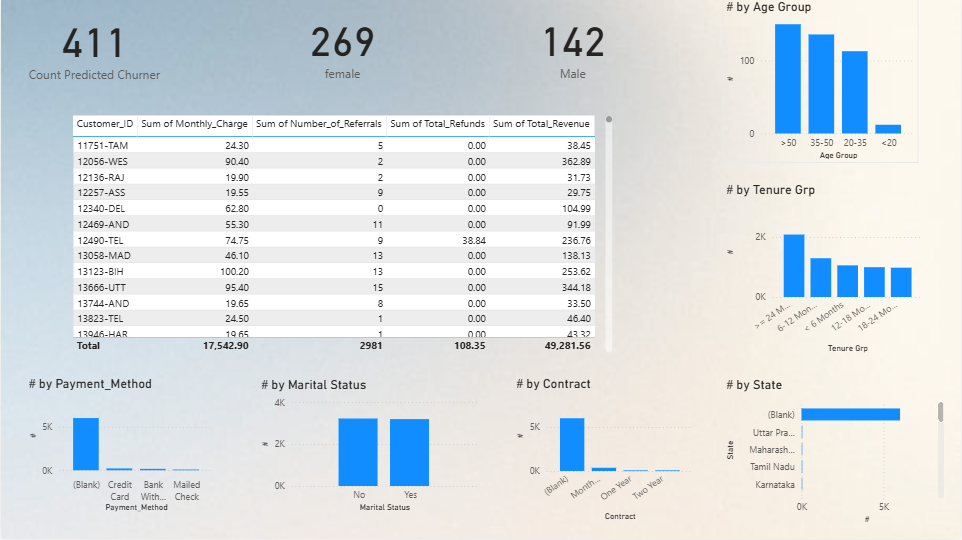

The dashboard page shown, as its layout file describes it:
{"tool":"powerbi","page":{"name":"Churn Prediction","canvas":[1280,720],"ordinal":1},"visuals":[{"type":"tableEx","fields":{"Values":["Predictions.Customer_ID","Sum(Predictions.Monthly_Charge)","Sum(Predictions.Number_of_Referrals)","Sum(Predictions.Total_Refunds)","Sum(Predictions.Total_Revenue)"]},"box":[90,150,730,326],"z":0},{"type":"card","fields":{"Values":["tbl_Measures.Count Predicted Churner"]},"box":[330,0,250,120],"z":1000},{"type":"card","fields":{"Values":["tbl_Measures.Count Predicted Churner"]},"box":[640,0,244,120],"z":2000},{"type":"clusteredColumnChart","fields":{"Y":["CountNonNull(Predictions.Customer_ID)"],"Category":["Mapping_Agegrp.Age Group"]},"box":[962,0,262,218],"z":3000},{"type":"clusteredBarChart","fields":{"Category":["Predictions.State"],"Y":["CountNonNull(prod_churn.Customer_ID)"]},"box":[962,504,300,200],"z":4000},{"type":"clusteredColumnChart","fields":{"Y":["CountNonNull(prod_churn.Customer_ID)"],"Category":["Mapping_Tenure Grp.Tenure Grp"]},"box":[962,244,272,232],"z":5000},{"type":"clusteredColumnChart","fields":{"Y":["CountNonNull(prod_churn.Customer_ID)"],"Category":["Predictions.Contract"]},"box":[682,502,246,198],"z":6000},{"type":"clusteredColumnChart","fields":{"Y":["CountNonNull(prod_churn.Customer_ID)"],"Category":["Predictions.Payment_Method"]},"box":[32,502,256,186],"z":7000},{"type":"clusteredColumnChart","fields":{"Y":["CountNonNull(prod_churn.Customer_ID)"],"Category":["prod_churn.Married"]},"box":[342,504,298,184],"z":8000},{"type":"card","fields":{"Values":["tbl_Measures.Count Predicted Churner"]},"box":[0,0,248,122],"z":9000}]}

Visuals, with their boxes in screenshot pixels (x1, y1, x2, y2), scaled from the page's 1280x720 canvas onto the 962x540 screenshot:
tableEx - Predictions.Customer_ID x Sum(Predictions.Monthly_Charge): (x1=68, y1=112, x2=616, y2=357)
card - tbl_Measures.Count Predicted Churner: (x1=248, y1=0, x2=436, y2=90)
card - tbl_Measures.Count Predicted Churner: (x1=481, y1=0, x2=664, y2=90)
clusteredColumnChart - CountNonNull(Predictions.Customer_ID) x Mapping_Agegrp.Age Group: (x1=723, y1=0, x2=920, y2=164)
clusteredBarChart - Predictions.State x CountNonNull(prod_churn.Customer_ID): (x1=723, y1=378, x2=948, y2=528)
clusteredColumnChart - CountNonNull(prod_churn.Customer_ID) x Mapping_Tenure Grp.Tenure Grp: (x1=723, y1=183, x2=927, y2=357)
clusteredColumnChart - CountNonNull(prod_churn.Customer_ID) x Predictions.Contract: (x1=513, y1=376, x2=697, y2=525)
clusteredColumnChart - CountNonNull(prod_churn.Customer_ID) x Predictions.Payment_Method: (x1=24, y1=376, x2=216, y2=516)
clusteredColumnChart - CountNonNull(prod_churn.Customer_ID) x prod_churn.Married: (x1=257, y1=378, x2=481, y2=516)
card - tbl_Measures.Count Predicted Churner: (x1=0, y1=0, x2=186, y2=92)
